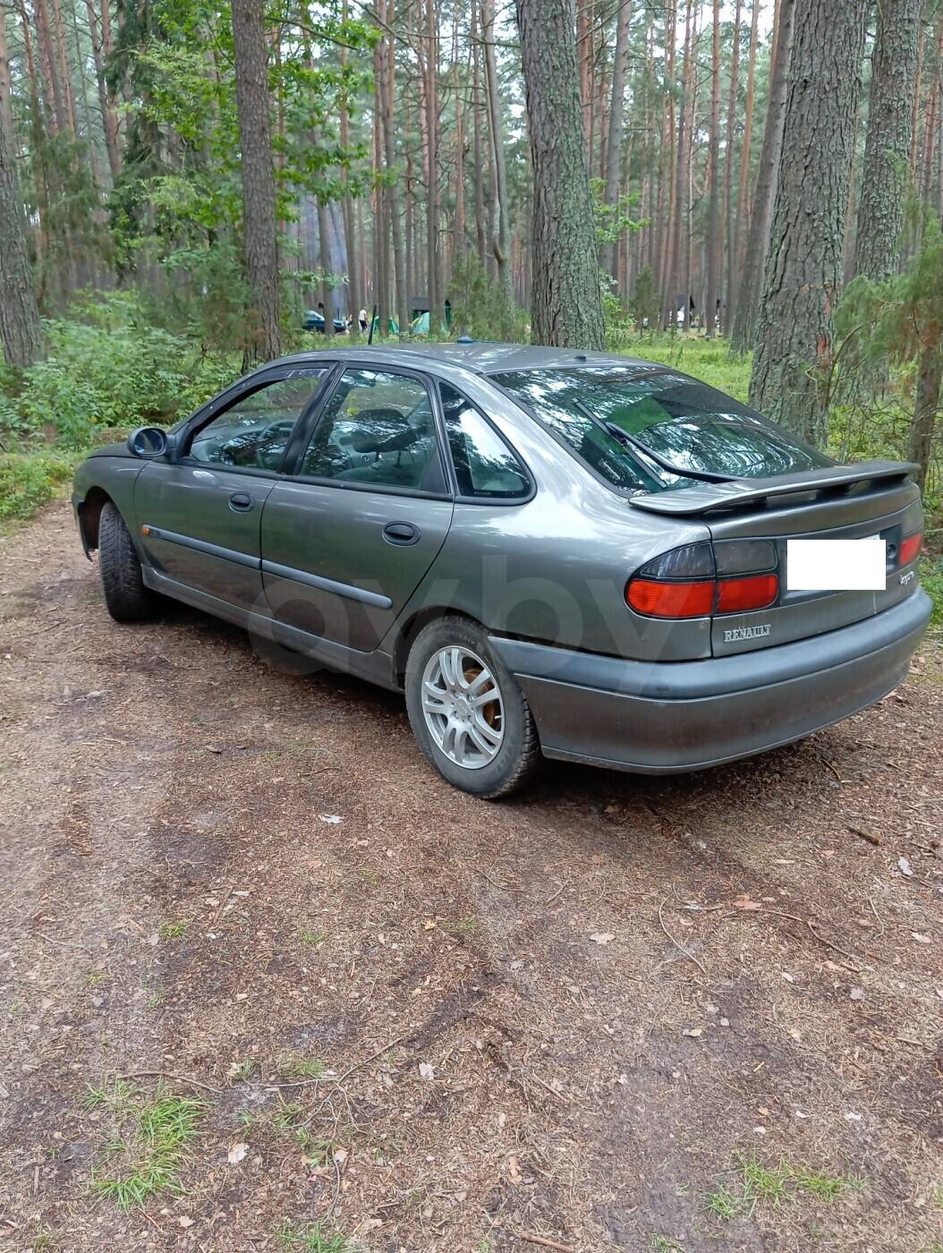Lahuna_1993-1999: (64, 338, 938, 795)
